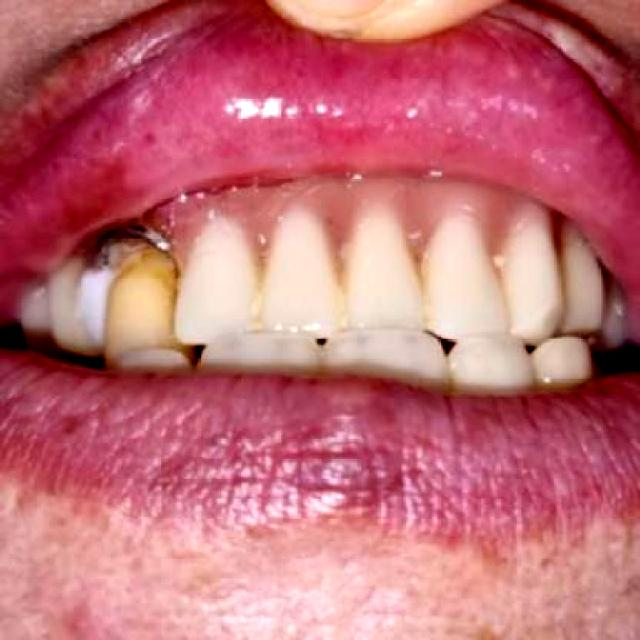Plaque: (140, 203, 173, 236)
